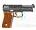gun: (1, 1, 36, 30)
